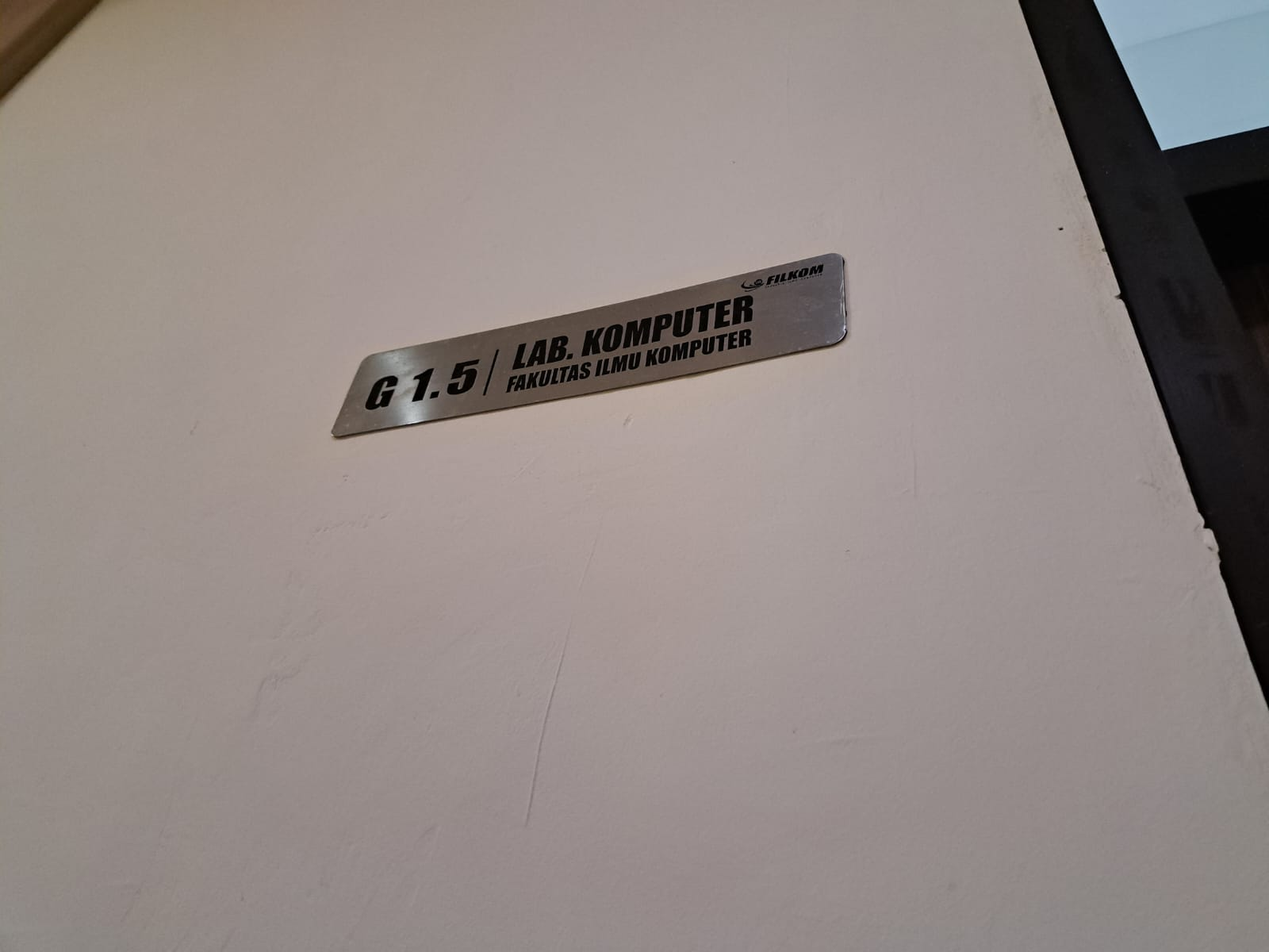ruangan: (321, 247, 855, 447)
